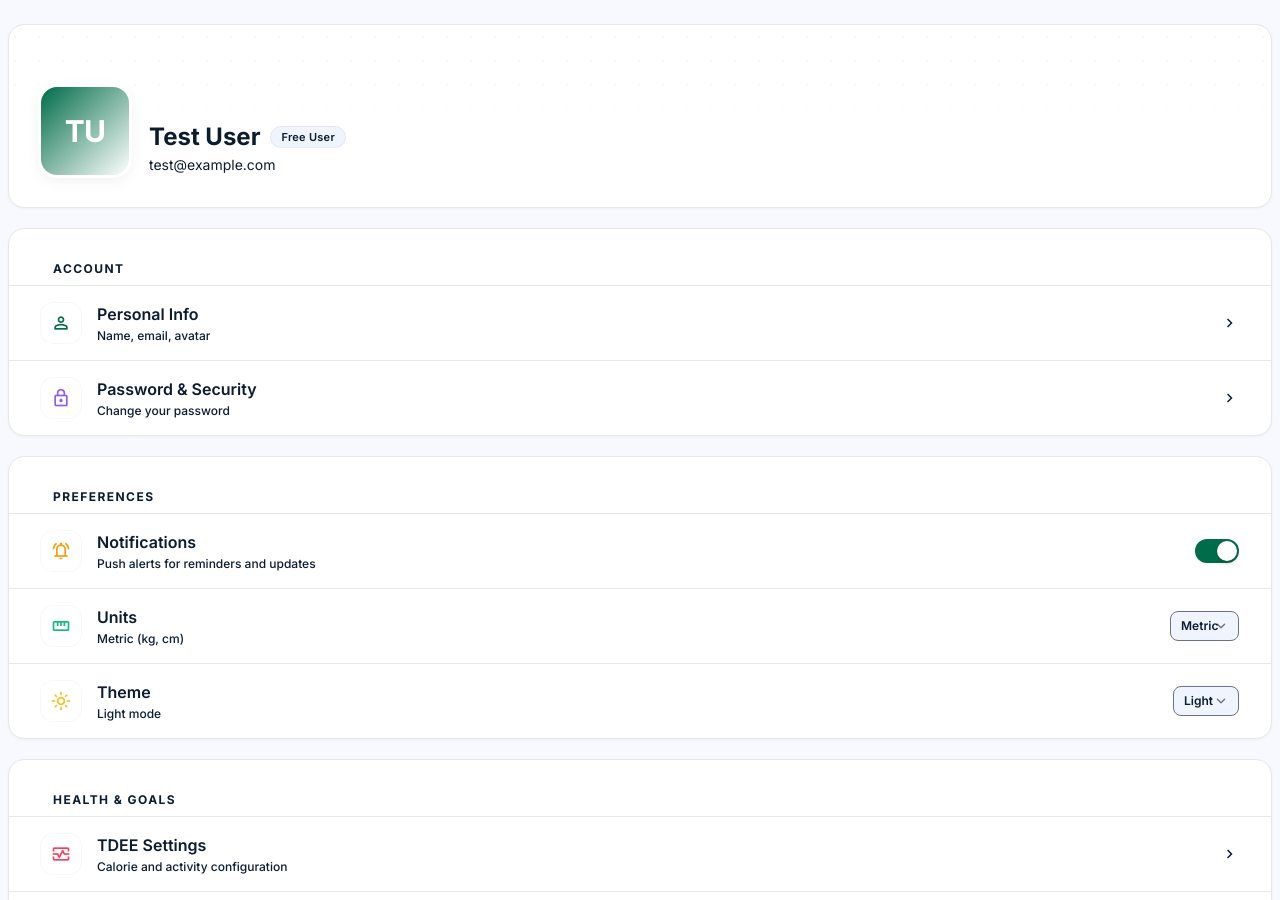
Test case: SettingsPage › shows error feedback when save fails
This screenshot has width=1280, height=900.
Click the switch: click(1217, 551) x1=1195 y1=539 x2=1239 y2=563
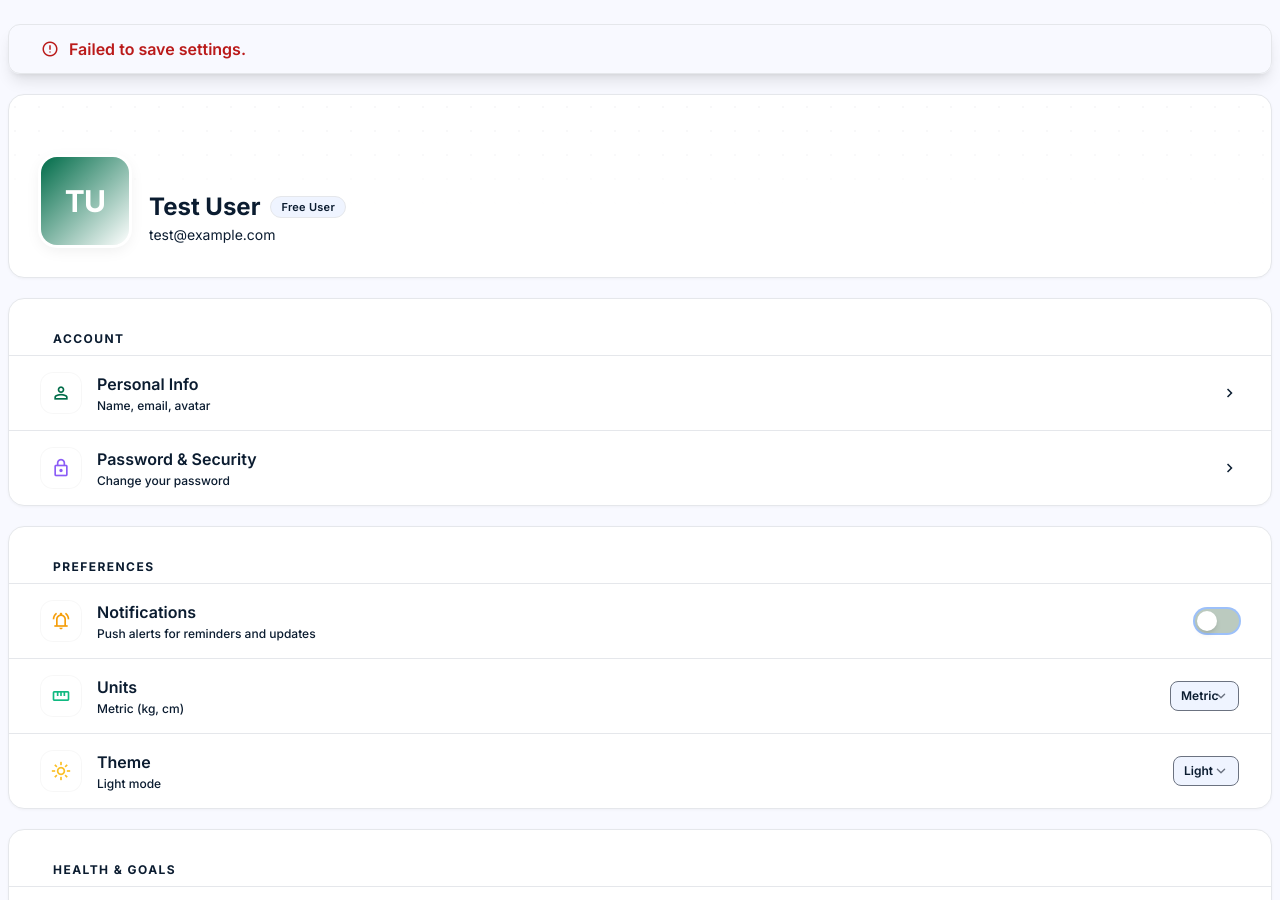
expect the text "Failed to save settings." is shown: met, box x1=8 y1=24 x2=1272 y2=74
